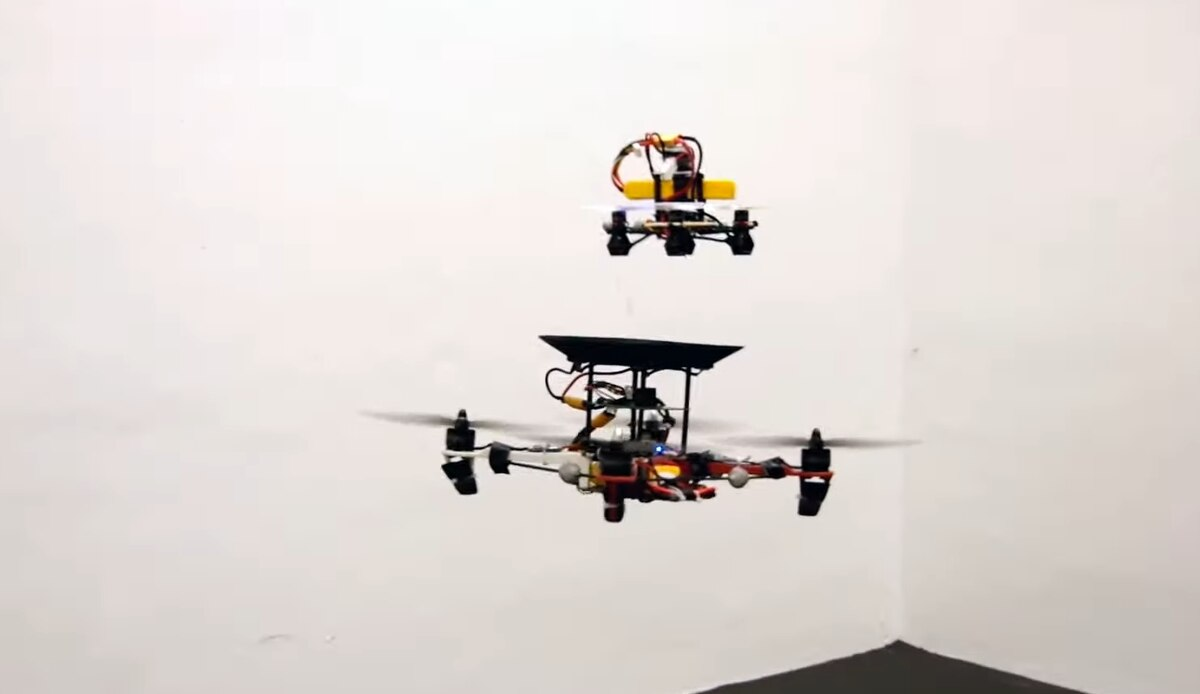drone: (343, 325, 945, 528), (592, 122, 772, 270)
